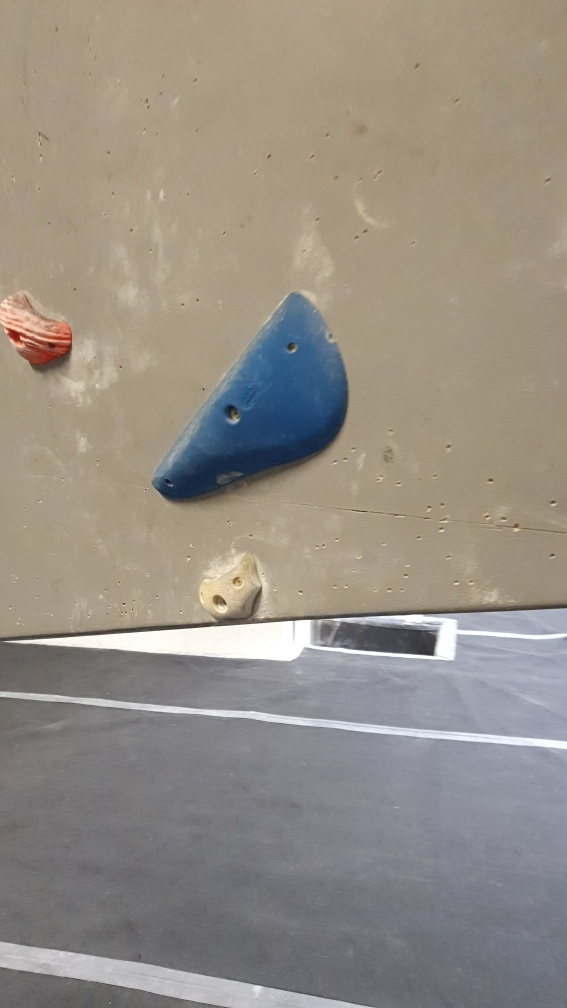Jug: (1, 286, 76, 373)
